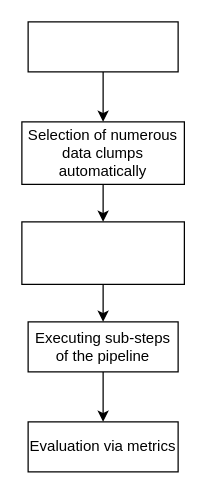
Image size: 206x494. Some labels were removed from this diagram. Each missing label, with the centre of its shape:
"Parameterization via different LLM parameters" belongs at (x=102, y=252).
"Selection of three projects" belongs at (x=102, y=46).
